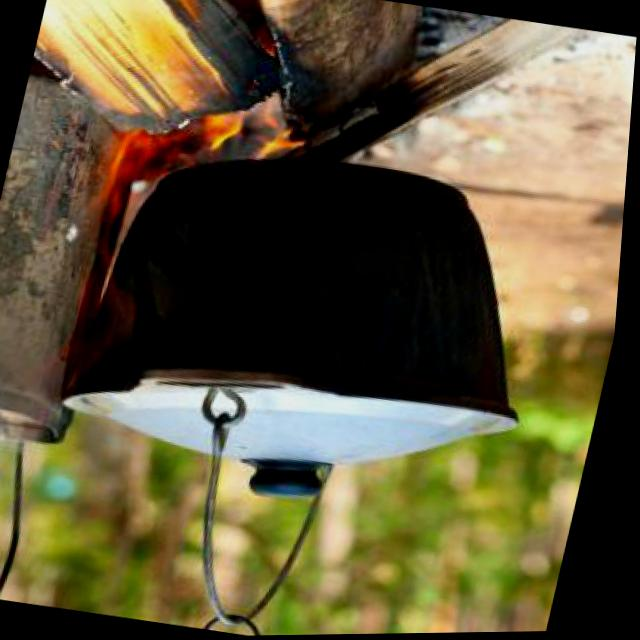helmet: (70, 81, 309, 240)
